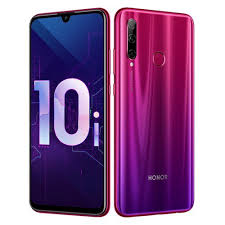huawei: (112, 5, 197, 215), (27, 6, 110, 218)
